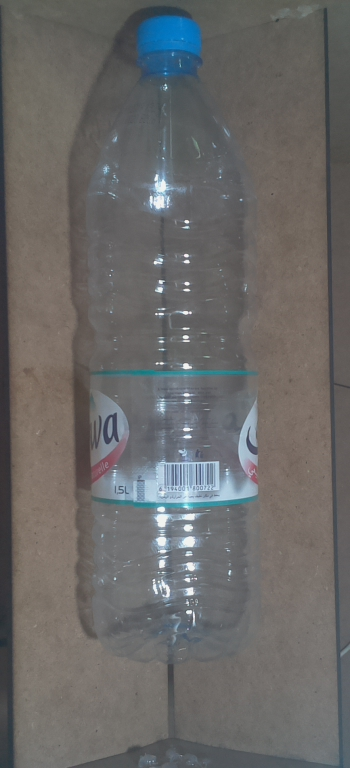Bouteille_1.5L: (63, 12, 278, 672)
